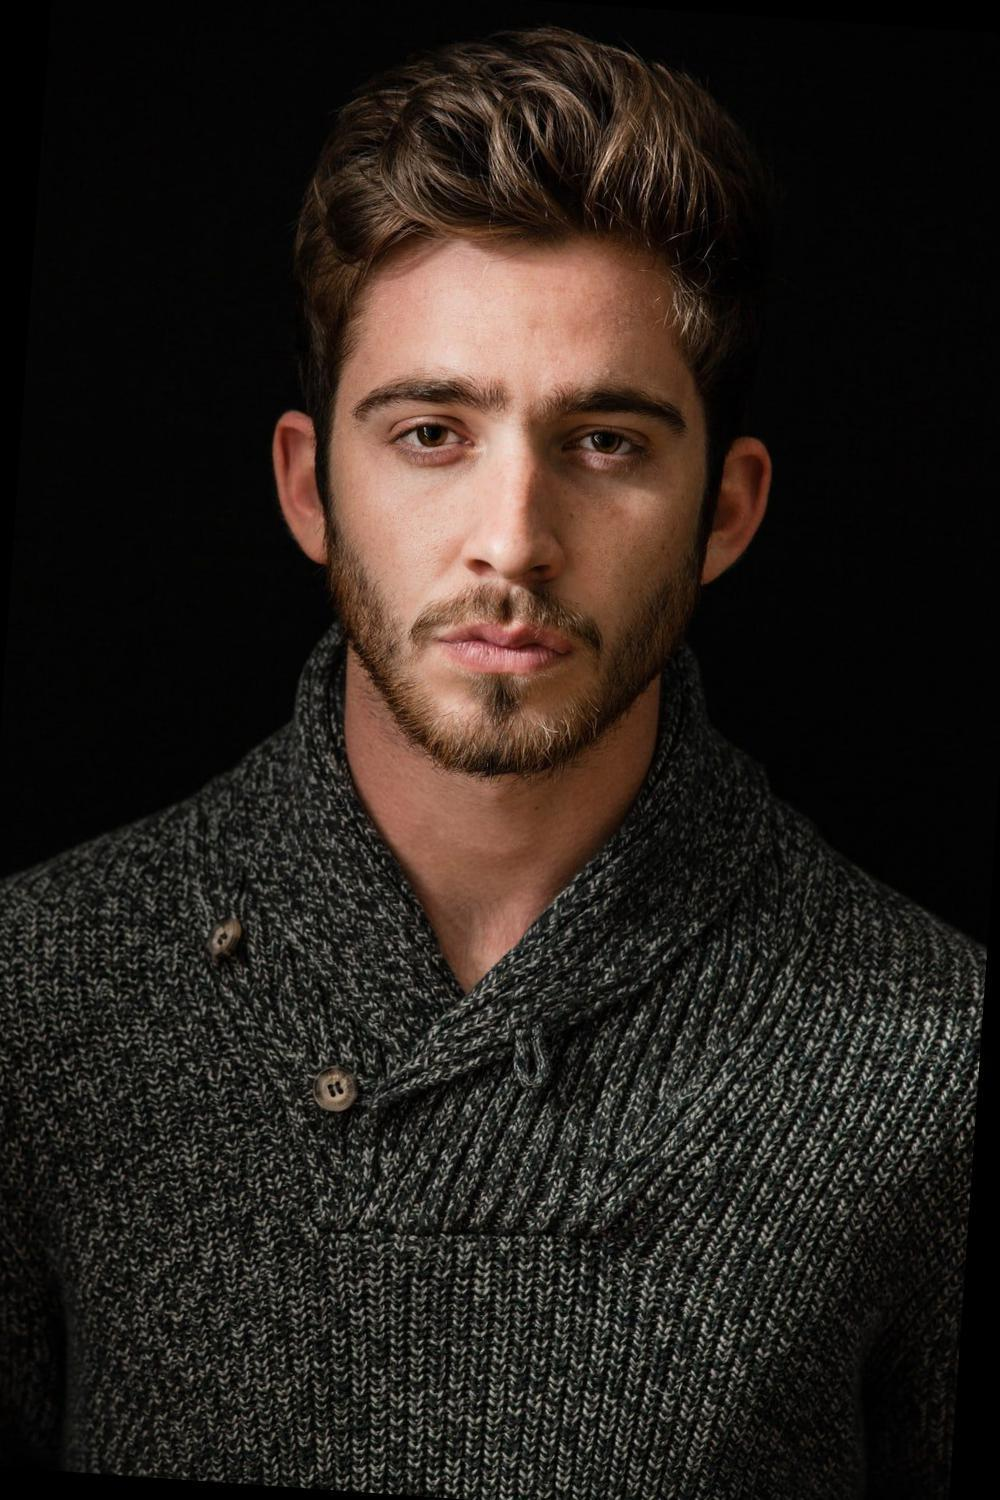Sober: (345, 267, 689, 715)
